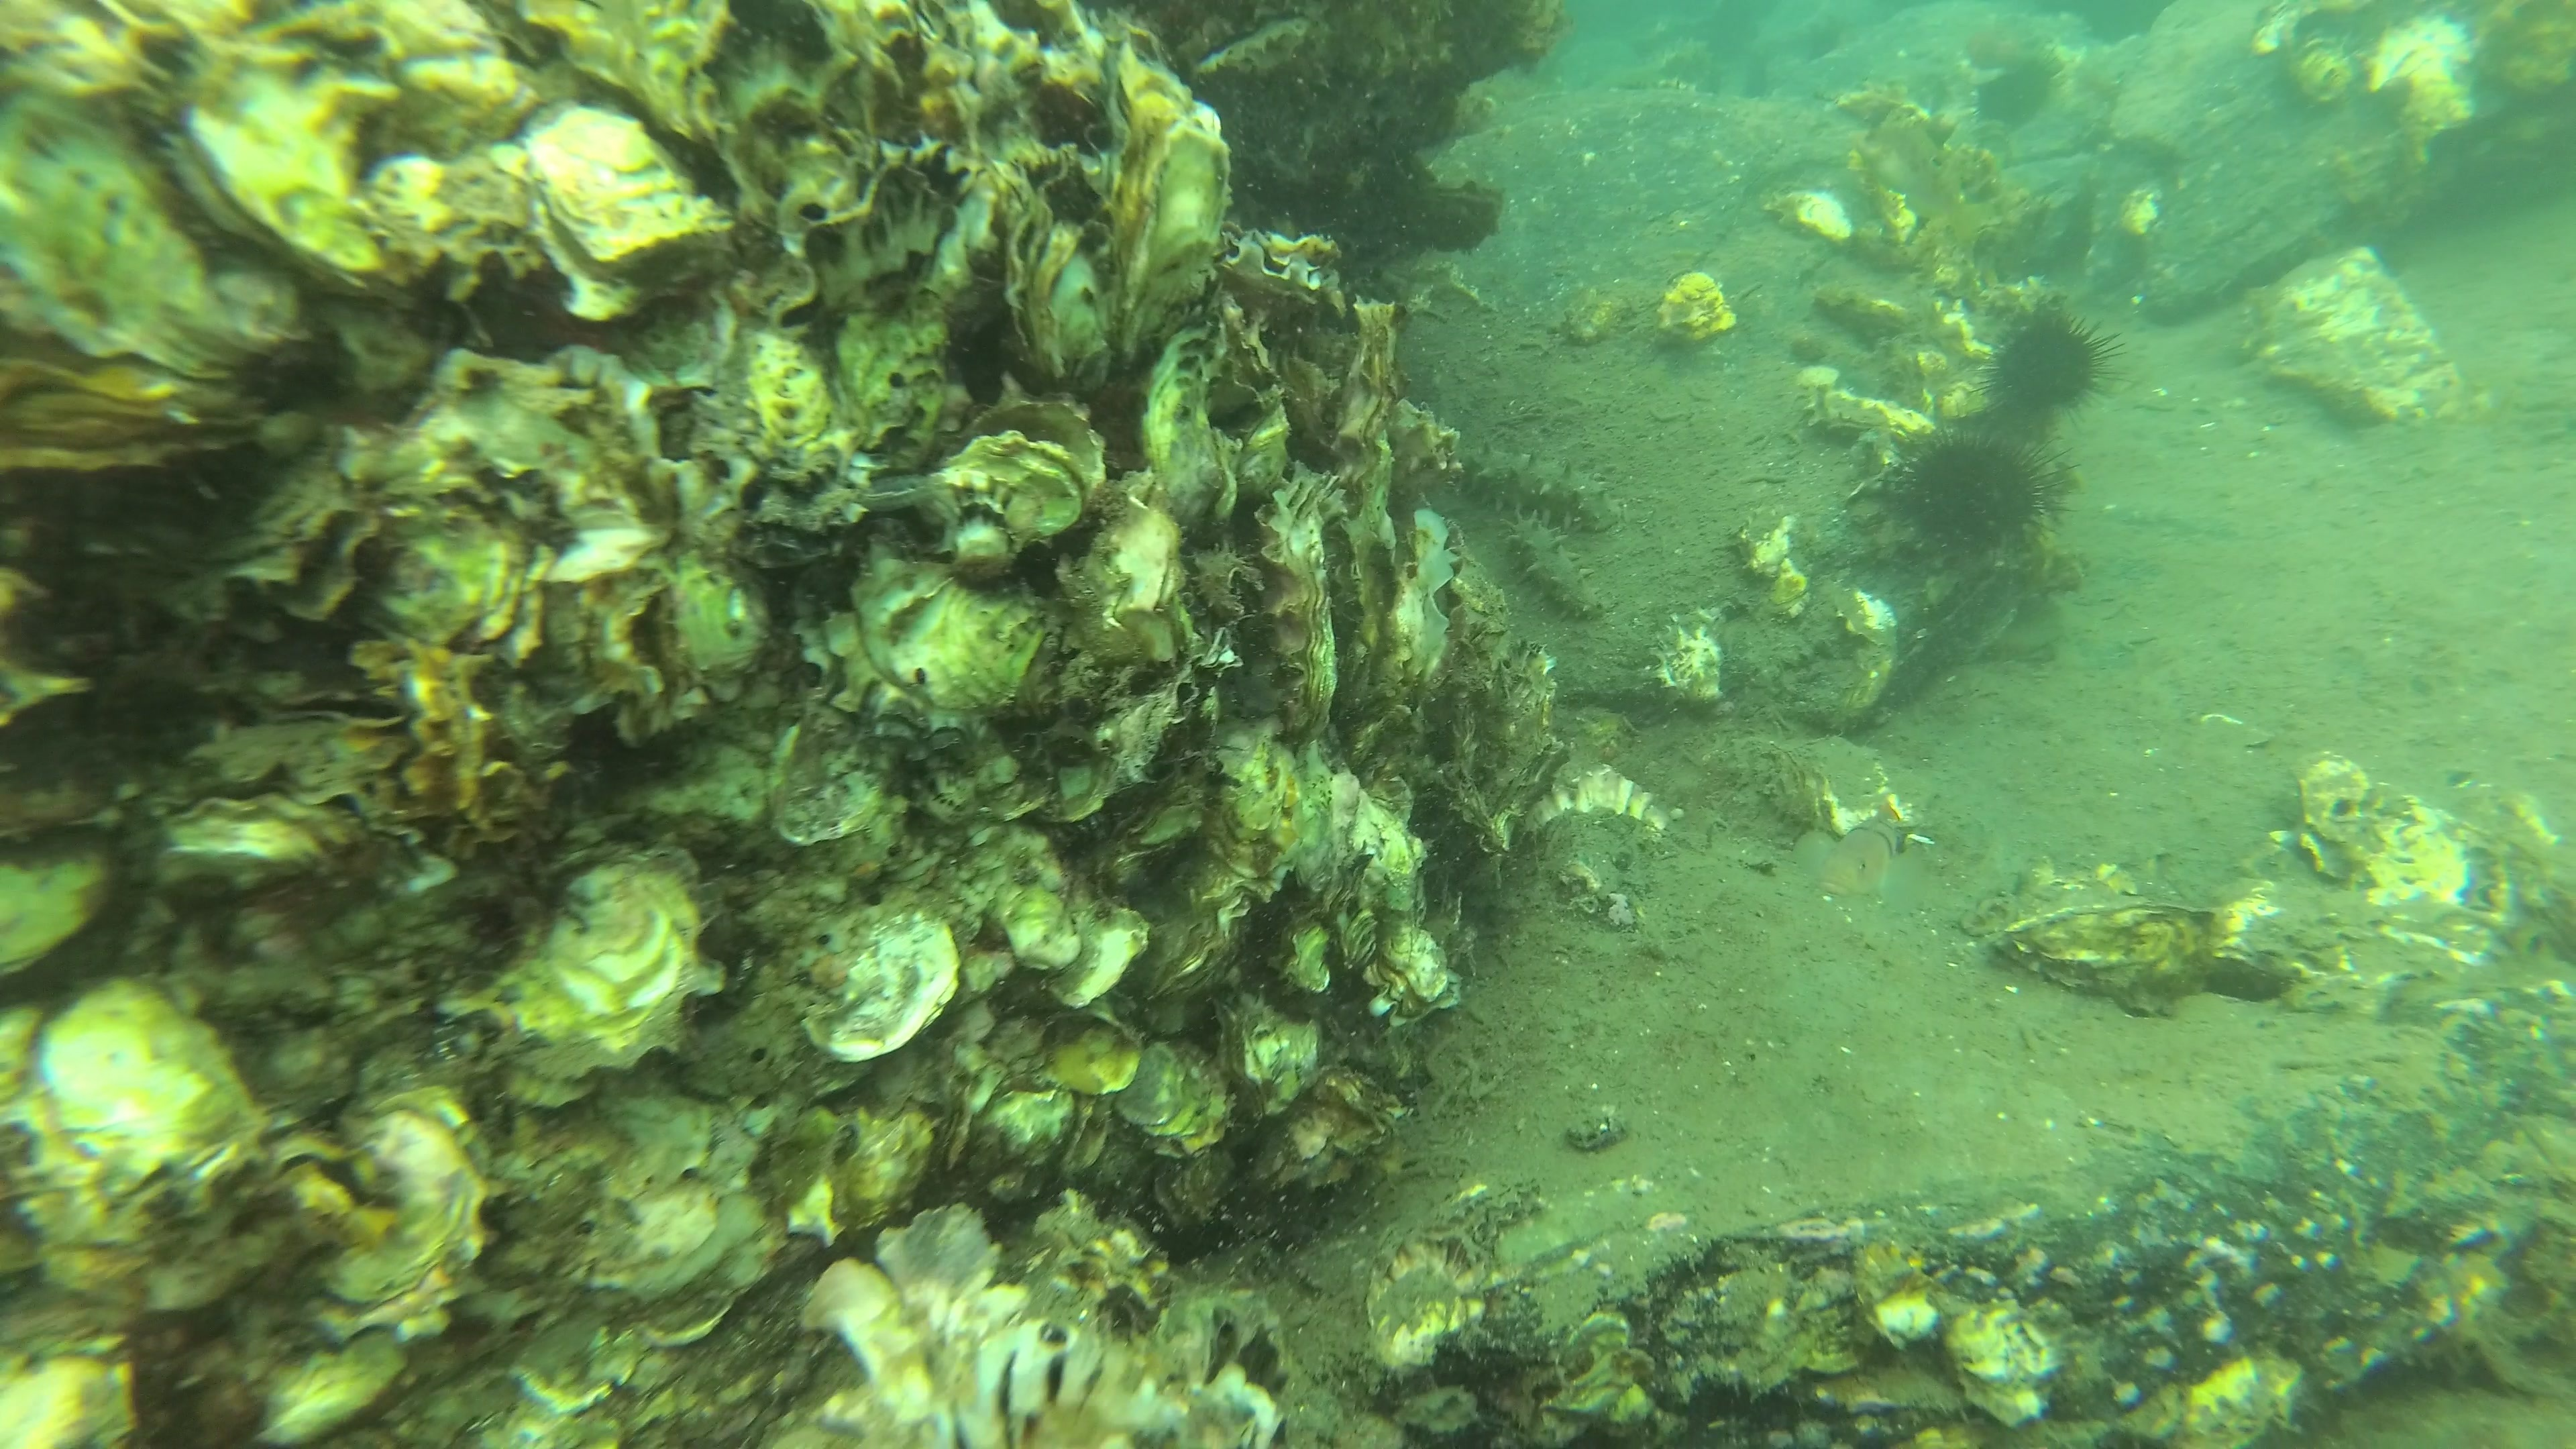echinus: (1882, 428, 2070, 566), (1974, 301, 2118, 426), (1957, 42, 2100, 168)
holothurian: (1438, 439, 1626, 538), (1509, 522, 1608, 633)
